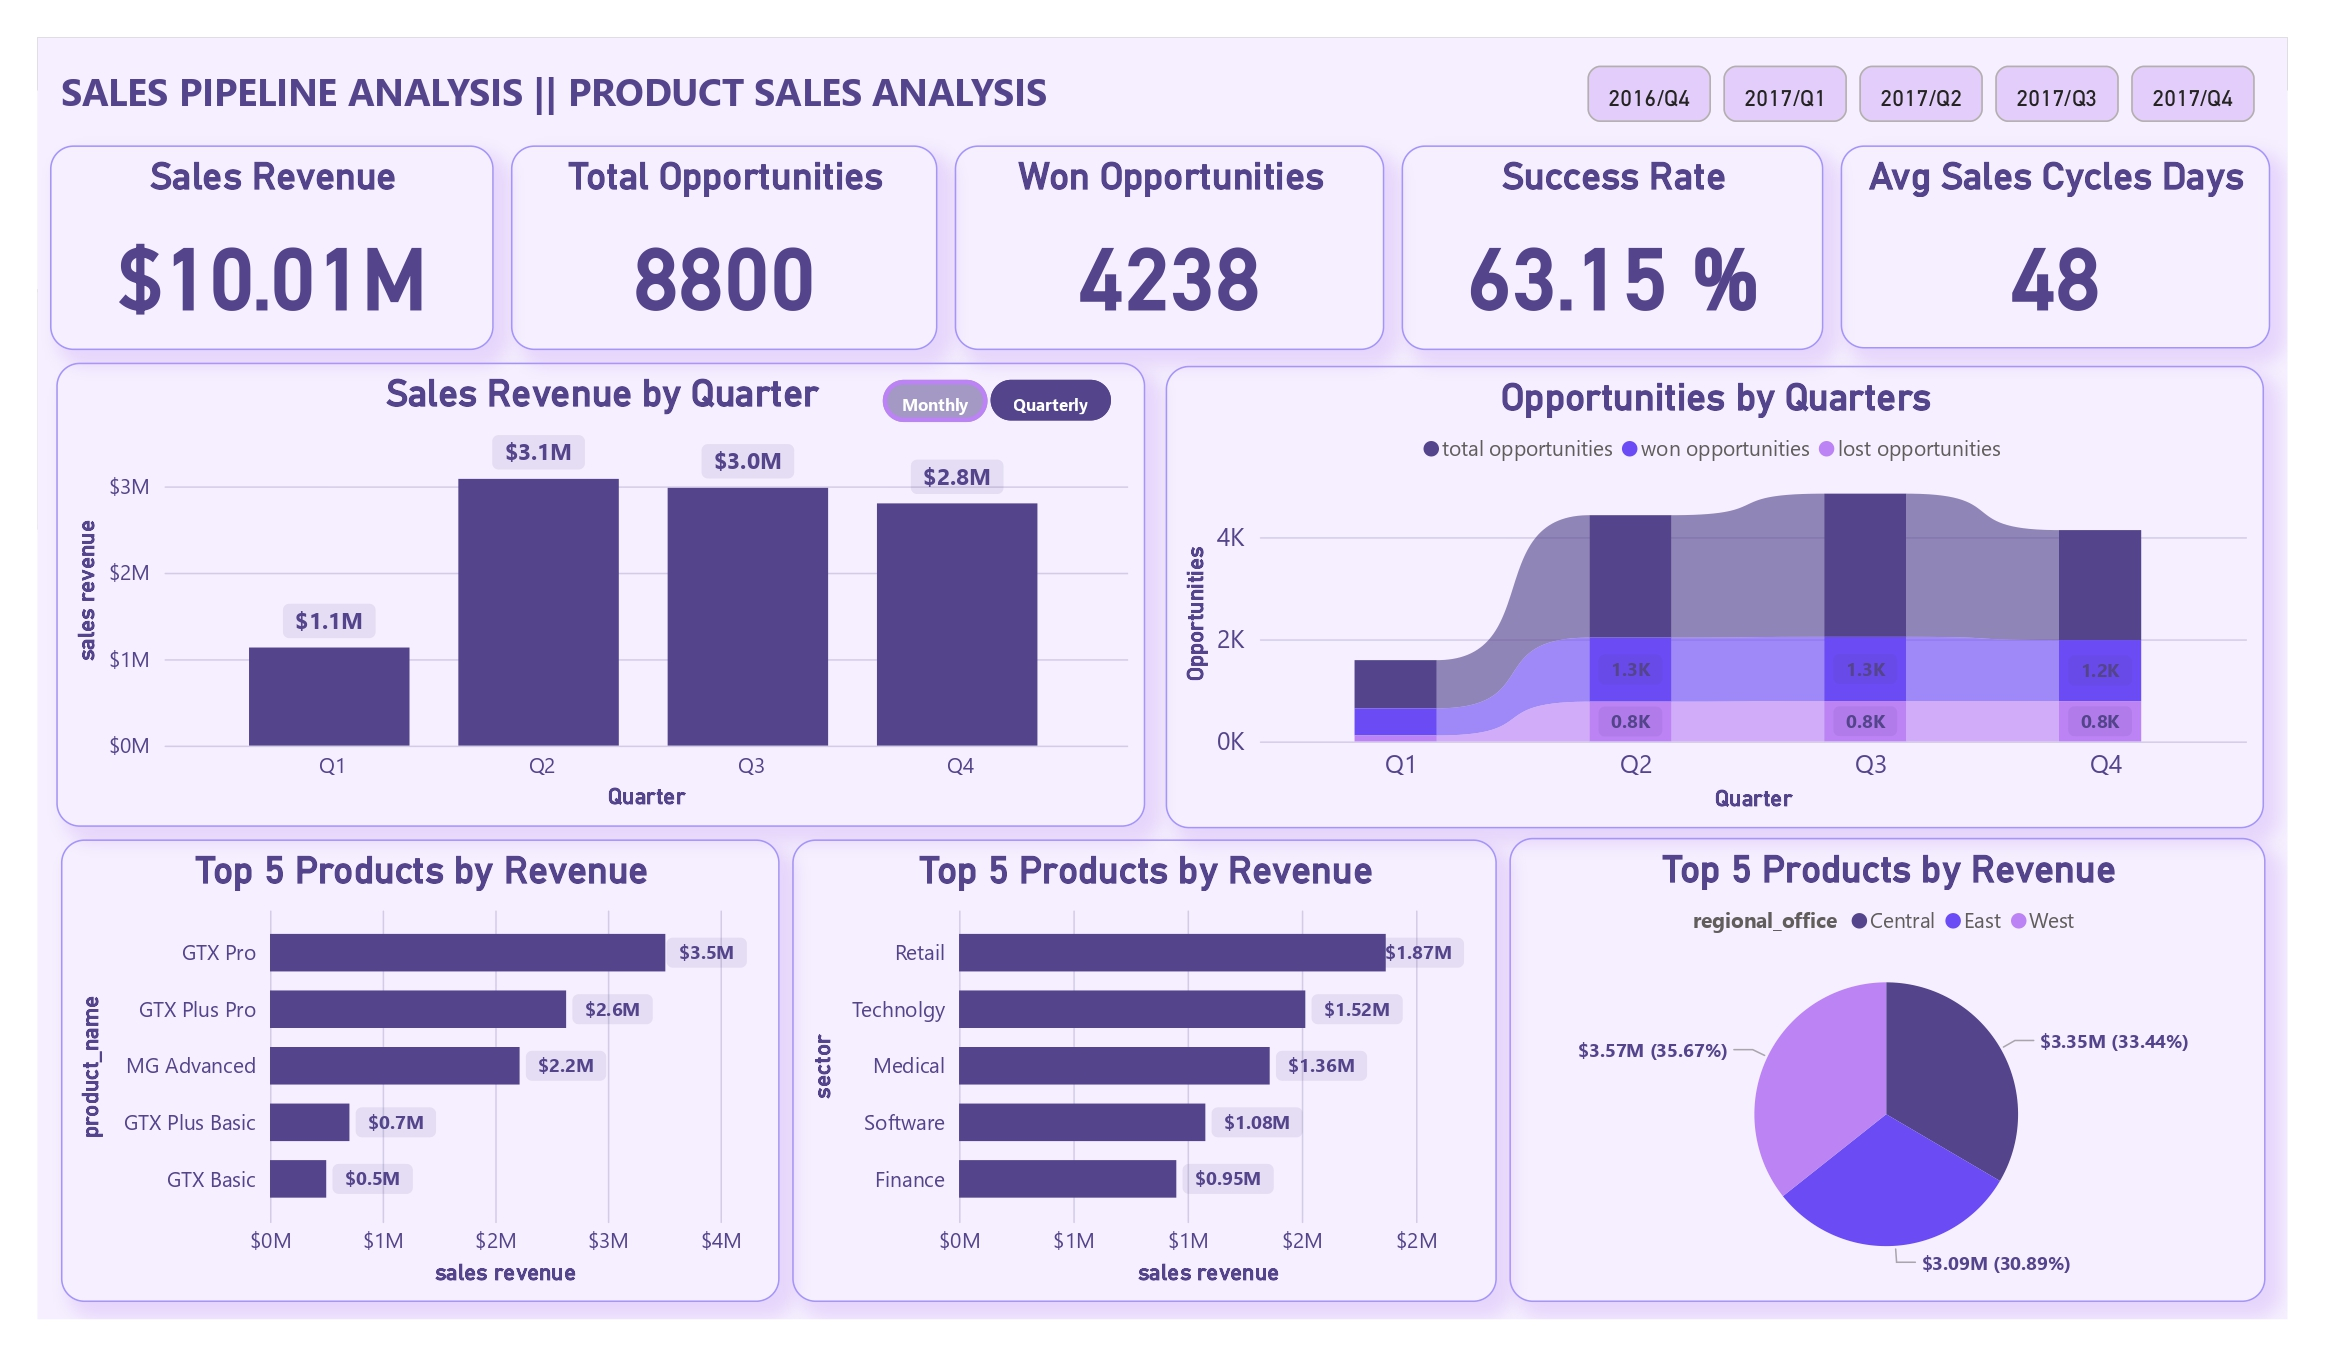

The page's visual inventory and layout, read from the dashboard file:
{"tool":"powerbi","page":{"name":"Overview","canvas":[1440,820],"ordinal":0},"visuals":[{"type":"group","id":"g1","title":"Quarter","box":[11.7,208.3,1413.3,298.3],"z":0},{"type":"columnChart","title":"Sales Revenue by Quarter","fields":{"Y":["_Measures.sales revenue"],"Category":["calendar.Quarter"]},"box":[11.7,208.3,696.7,296.7],"z":0,"group":"g1"},{"type":"ribbonChart","title":"Opportunities by Quarters","fields":{"Category":["calendar.Quarter"],"Y":["_Measures.total opportunities","_Measures.won opportunities","_Measures.lost opportunities"]},"box":[721.7,210,703.3,296.7],"z":1000,"group":"g1"},{"type":"card","title":"Sales Revenue","fields":{"Values":["_Measures.sales revenue"]},"box":[8,69.3,284,130.4],"z":2000},{"type":"card","title":"Total Opportunities","fields":{"Values":["_Measures.total opportunities"]},"box":[303,69.3,273.2,130.4],"z":3000},{"type":"card","title":"Won Opportunities","fields":{"Values":["_Measures.won opportunities"]},"box":[587.2,69.3,274.7,130.4],"z":4000},{"type":"card","title":"Success Rate","fields":{"Values":["_Measures.success rate"]},"box":[872.9,69.3,270.1,130.4],"z":5000},{"type":"card","title":"Avg Sales Cycles Days","fields":{"Values":["_Measures.avg sales cycle duration"]},"box":[1154,69.3,275,130],"z":6000},{"type":"clusteredBarChart","title":"Top 5 Products by Revenue","fields":{"Category":["products.product_name"],"Y":["_Measures.sales revenue"]},"box":[15.3,512.7,460,296.7],"z":7000},{"type":"pieChart","title":"Top 5 Products by Revenue","fields":{"Category":["sales_teams.regional_office"],"Y":["_Measures.sales revenue"]},"box":[942.2,512.2,483.3,296.7],"z":8000},{"type":"clusteredBarChart","title":"Top 5 Products by Revenue","fields":{"Y":["_Measures.sales revenue"],"Category":["accounts.sector"]},"box":[482.8,512.7,451.7,296.7],"z":9000},{"type":"textbox","box":[10,12.5,652.5,46.2],"z":10000},{"type":"actionButton","title":"Monthly Disable","box":[540.5,219.5,67.3,26.4],"z":11000},{"type":"actionButton","title":"Quarter Enable","box":[609.7,219.1,77.3,26.4],"z":12000},{"type":"advancedSlicerVisual","title":"slicer","fields":{"Values":["calendar.Year Quarter"]},"box":[987,13,440,46],"z":13000}]}

Visuals, with their boxes on the page's 1440x820 design canvas (x1, y1, x2, y2). These are canvas units, not pixel positions in the 2325x1357 screenshot, which may show the page scaled, cropped or inside an application window:
"Quarter" group: 12 208 1425 507
"Sales Revenue by Quarter" columnChart: 12 208 708 505
"Opportunities by Quarters" ribbonChart: 722 210 1425 507
"Sales Revenue" card: 8 69 292 200
"Total Opportunities" card: 303 69 576 200
"Won Opportunities" card: 587 69 862 200
"Success Rate" card: 873 69 1143 200
"Avg Sales Cycles Days" card: 1154 69 1429 199
"Top 5 Products by Revenue" clusteredBarChart: 15 513 475 809
"Top 5 Products by Revenue" pieChart: 942 512 1426 809
"Top 5 Products by Revenue" clusteredBarChart: 483 513 934 809
textbox: 10 12 662 59
"Monthly Disable" actionButton: 540 220 608 246
"Quarter Enable" actionButton: 610 219 687 246
"slicer" advancedSlicerVisual: 987 13 1427 59
